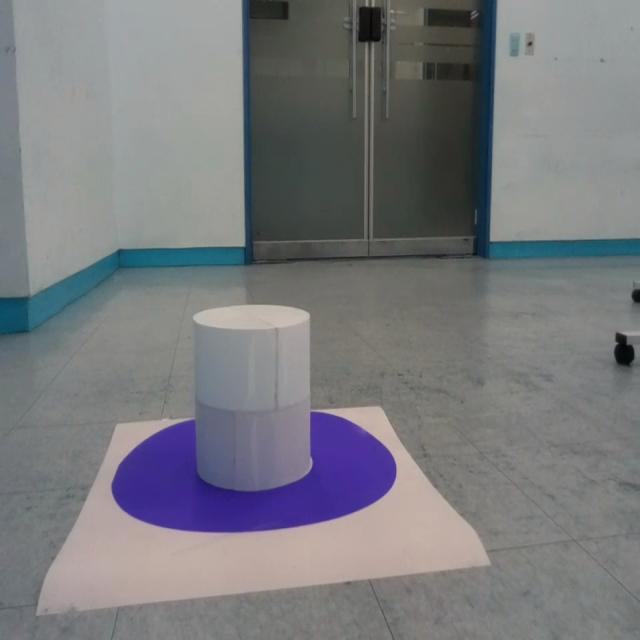cylinder: (192, 303, 311, 490)
